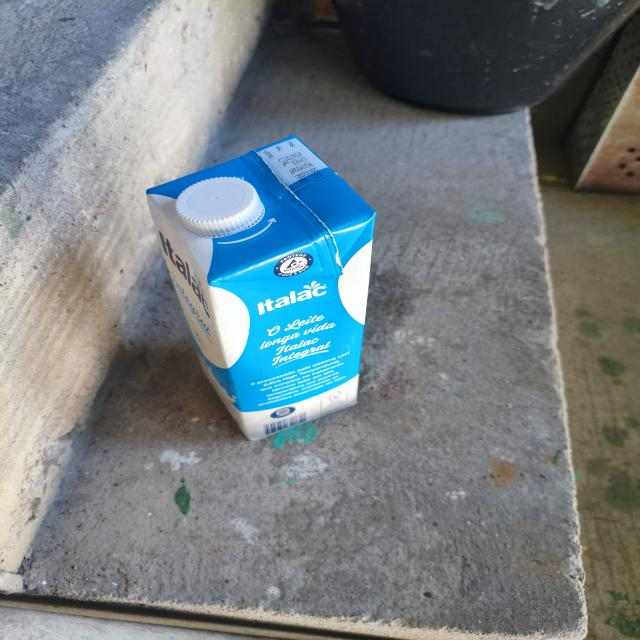Caixa de Leite: (126, 126, 408, 448)
